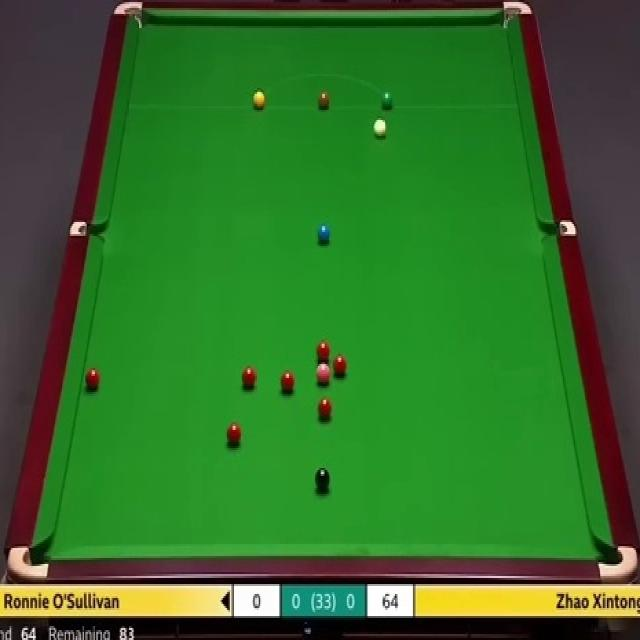black-ball: (315, 466, 330, 491)
blue-ball: (316, 225, 331, 242)
brown-ball: (318, 92, 330, 108)
green-ball: (380, 88, 395, 110)
pink-ball: (317, 364, 332, 384)
red-ball: (332, 352, 348, 376), (226, 421, 242, 445), (317, 398, 332, 421), (241, 365, 256, 388), (85, 369, 100, 392), (281, 370, 294, 393), (316, 341, 330, 362)
white-ball: (373, 120, 387, 137)
yellow-ball: (253, 90, 265, 110)
